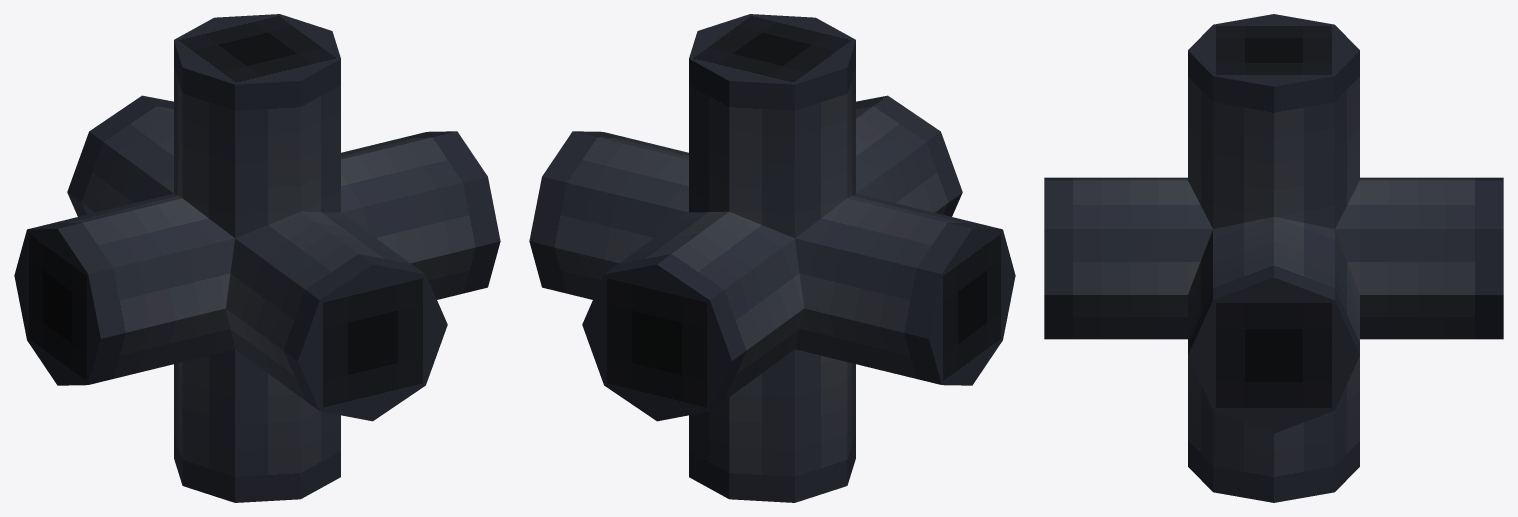
File: lead_pipe_inventory.obj
3 renders of one model, left to right at view 1: azimuth 30°, elevation 25°; view 2: azimuth 150°, elevation 25°; view 3: azimuth 270°, elevation 25°, orthographic.
Parts seen in each view (by area): view 1: nZ, nX, pY, nY, pX, pZ; view 2: pZ, nX, pY, nY, pX, nZ; view 3: pY, pX, nZ, pZ, nY.
Part boxes in pixels (x1,y1,x2,y2): nZ: (226, 211, 447, 421); nX: (14, 193, 234, 385); pY: (174, 14, 340, 238); nY: (174, 349, 340, 502); pX: (341, 131, 500, 299); pZ: (67, 95, 173, 216); pZ: (582, 211, 803, 421); nX: (795, 193, 1015, 385); pY: (689, 14, 855, 238); nY: (689, 349, 855, 502); pX: (529, 131, 688, 299); nZ: (856, 95, 962, 216); pY: (1188, 14, 1359, 228); pX: (1188, 217, 1359, 433); nZ: (1044, 177, 1212, 339); pZ: (1335, 177, 1503, 339); nY: (1188, 356, 1359, 502).
Size of the model in its own units: 1 by 1 by 1.
